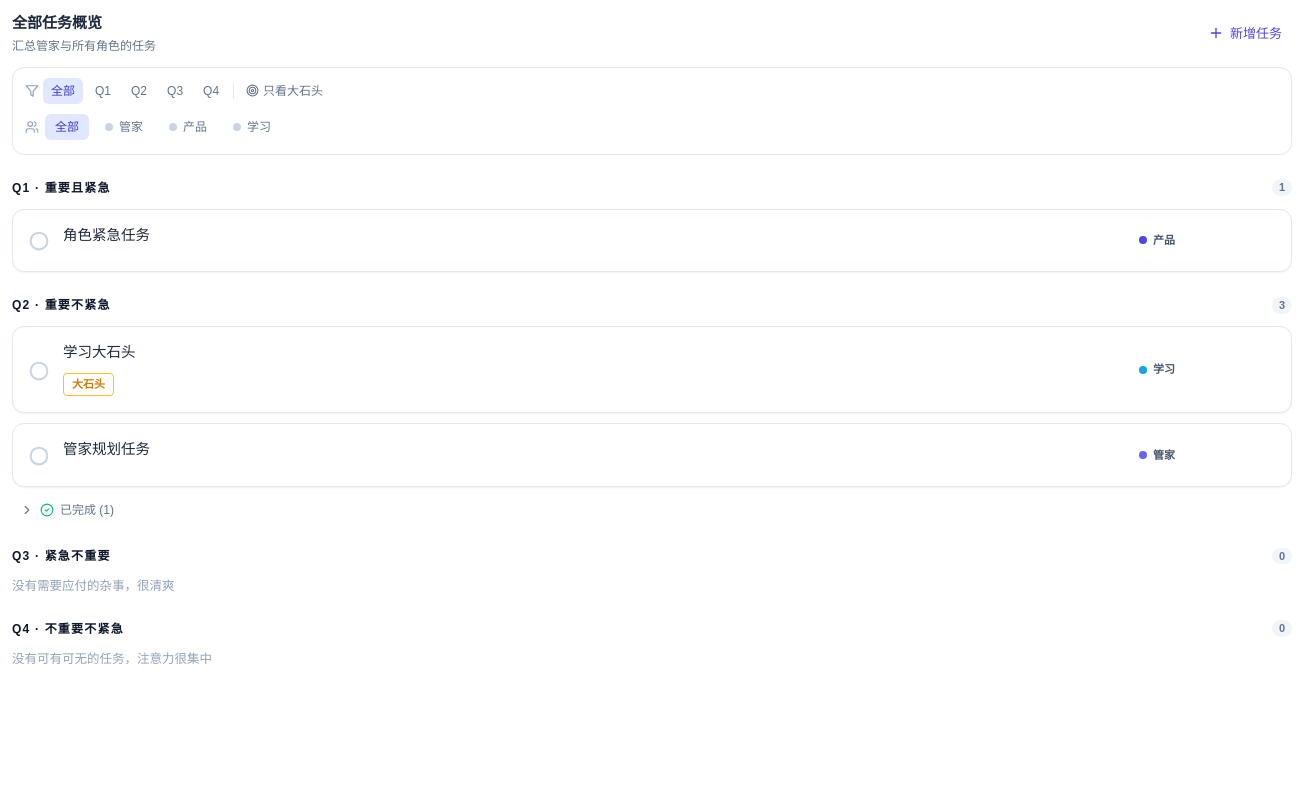
Test: TaskOverviewTab › 归属筛选使用“全部”入口并支持全选/全不选与多选过滤
Check: the element named "按归属筛选" is shown, box [45,114,281,148]
What coordinates should you click on to do the following:
click the 2nd button "全部"
I would click on:
 (67, 126)
Its box is [45,114,89,140].
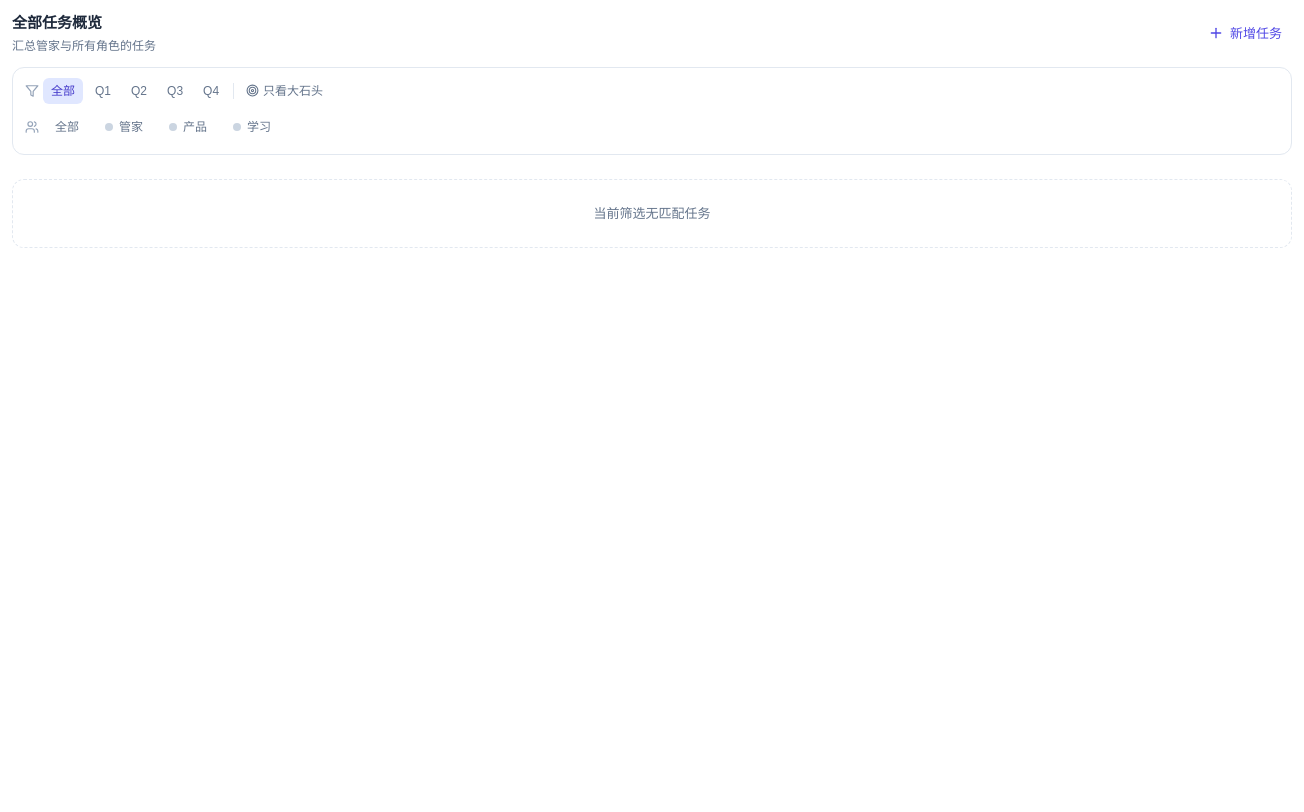
Check: the text "角色紧急任务" is gone
Check: the text "学习大石头" is gone
Check: the text "管家规划任务" is gone
What coordinates should you click on to do the following:
click the button "产品"
I would click on:
 (188, 126)
Its box is [159,114,217,140].
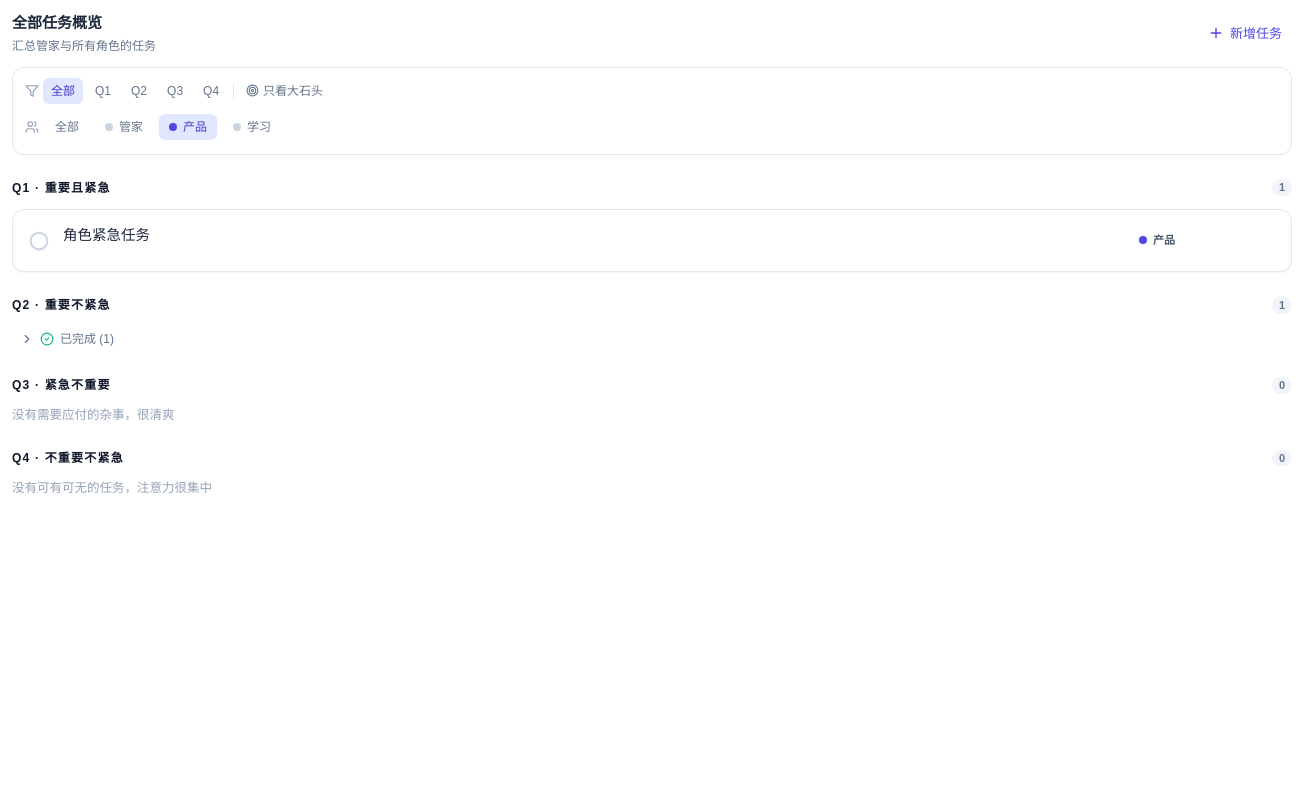
Check: the text "学习大石头" is not shown
Check: the text "角色紧急任务" is shown, box [63,226,150,242]
